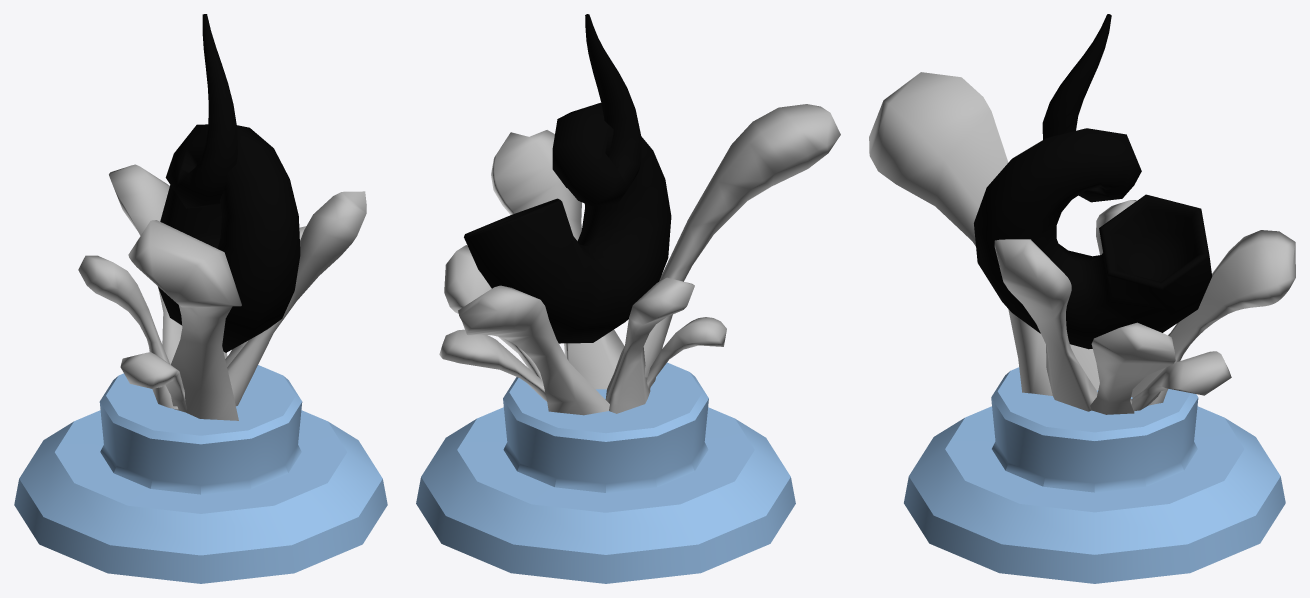
Rendered from ArtefaktBlau.fbx.
3 views of the same model, side by side, from view 1: azimuth 30°, elevation 25°; view 2: azimuth 150°, elevation 25°; view 3: azimuth 270°, elevation 25° (orthographic). The views are drawn at different scales.
Visible parts, largest first — view 1: StandBlue, Water, Shell; view 2: StandBlue, Water, Shell; view 3: StandBlue, Water, Shell.
Boxes of the visible parts, x1,y1,x2,y2 form: StandBlue: (14, 365, 387, 583); Water: (78, 164, 366, 420); Shell: (158, 14, 300, 352); StandBlue: (416, 362, 795, 583); Water: (439, 104, 840, 415); Shell: (464, 14, 671, 343); StandBlue: (904, 367, 1285, 583); Water: (869, 72, 1295, 414); Shell: (974, 14, 1212, 349).
Size of the model in its own units: 2.77 by 3.95 by 3.09.
